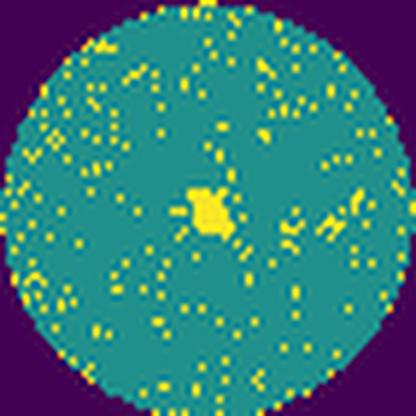Center: (185, 188, 237, 241)
